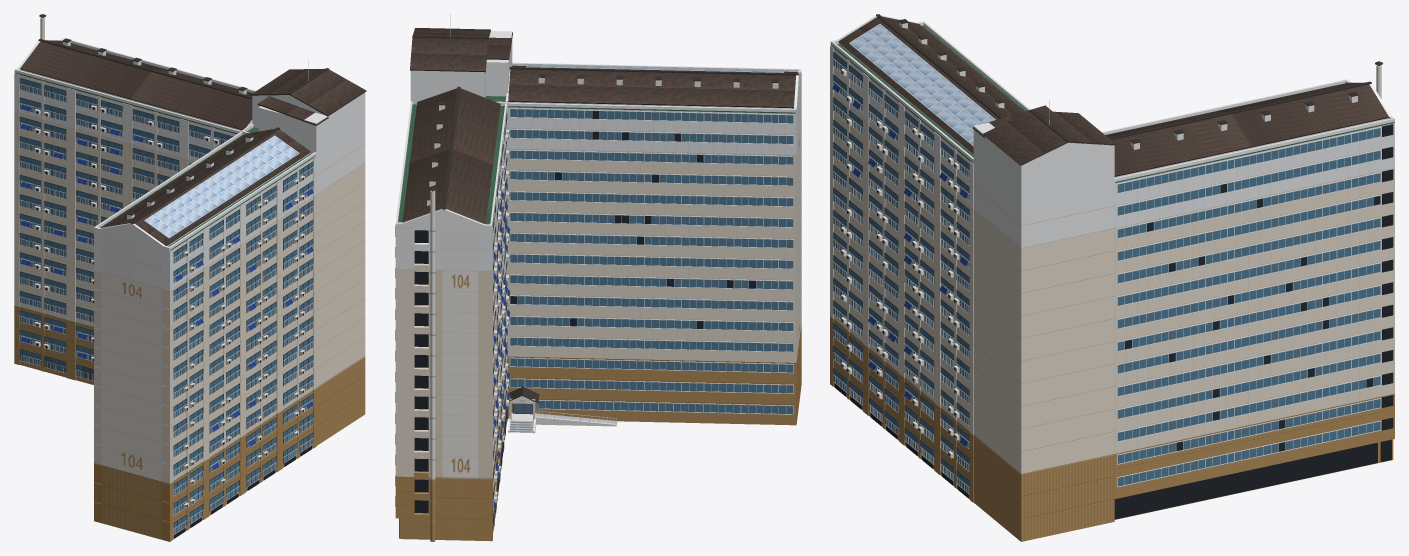
Rendered from place_행당대림104.glb.
3 views of the same model, side by side, from view 1: azimuth 30°, elevation 25°; view 2: azimuth 150°, elevation 25°; view 3: azimuth 270°, elevation 25° (orthographic). The views are drawn at different scales.
Visible parts, largest first — view 1: Merged_Window_Glass, Haengdang_Daelim_104_v2, Wing2_WSW_104_Wall, Pitched_Gable_Roofs, Corner_Core_Block, Merged_Silver_Railings, Merged_Sash_Frames, Wing2_Main_Mid, Wing1_Main_Mid, Wing2_South_Rooftop_Solar_PV_Array, Merged_AC_Units, Wing1_Main_Top (+9 smaller); view 2: Wing2_Main_Mid, Merged_Window_Glass, Pitched_Gable_Roofs, Wing1_NNW_104_Wall, Merged_White_Corr_Frames, Haengdang_Daelim_104_v2, Wing2_Main_Lower, Wing2_Main_Top, Wing1_NNW_East_Mid, Wing1_NNW_Chimney, Inner_Corner_104_Entrance, Wing2_WSW_104_Wall (+10 smaller); view 3: Merged_Window_Glass, Corner_Core_Block, Wing1_Main_Mid, Haengdang_Daelim_104_v2, Pitched_Gable_Roofs, Merged_White_Corr_Frames, Merged_Silver_Railings, Wing2_Main_Mid, Merged_Sash_Frames, Wing1_Main_Lower, Wing1_Main_Top, Wing2_South_Rooftop_Solar_PV_Array (+7 smaller).
Part boxes in pixels (bbox=[...]): Merged_Window_Glass: bbox=[20, 78, 312, 533]; Haengdang_Daelim_104_v2: bbox=[14, 59, 366, 541]; Wing2_WSW_104_Wall: bbox=[94, 231, 169, 541]; Pitched_Gable_Roofs: bbox=[14, 38, 316, 251]; Corner_Core_Block: bbox=[317, 124, 365, 445]; Merged_Silver_Railings: bbox=[19, 83, 313, 535]; Merged_Sash_Frames: bbox=[19, 78, 313, 531]; Wing2_Main_Mid: bbox=[173, 197, 312, 480]; Wing1_Main_Mid: bbox=[26, 115, 194, 326]; Wing2_South_Rooftop_Solar_PV_Array: bbox=[144, 135, 299, 238]; Merged_AC_Units: bbox=[34, 105, 304, 508]; Wing1_Main_Top: bbox=[26, 76, 235, 161]; Wing2_Main_Mid: bbox=[508, 148, 796, 362]; Merged_Window_Glass: bbox=[493, 109, 793, 518]; Pitched_Gable_Roofs: bbox=[395, 62, 801, 229]; Wing1_NNW_104_Wall: bbox=[428, 228, 491, 541]; Merged_White_Corr_Frames: bbox=[509, 108, 793, 414]; Haengdang_Daelim_104_v2: bbox=[395, 14, 801, 540]; Wing2_Main_Lower: bbox=[508, 356, 796, 425]; Wing2_Main_Top: bbox=[508, 75, 801, 154]; Wing1_NNW_East_Mid: bbox=[395, 269, 414, 476]; Wing1_NNW_Chimney: bbox=[429, 187, 436, 541]; Inner_Corner_104_Entrance: bbox=[507, 386, 617, 433]; Wing2_WSW_104_Wall: bbox=[796, 74, 801, 422]; Merged_Window_Glass: bbox=[834, 53, 1380, 493]; Corner_Core_Block: bbox=[973, 164, 1114, 541]; Wing1_Main_Mid: bbox=[1114, 171, 1380, 453]; Haengdang_Daelim_104_v2: bbox=[830, 45, 1393, 519]; Pitched_Gable_Roofs: bbox=[830, 14, 1394, 182]; Merged_White_Corr_Frames: bbox=[1117, 127, 1380, 487]; Merged_Silver_Railings: bbox=[833, 58, 969, 494]; Wing2_Main_Mid: bbox=[834, 93, 969, 430]; Merged_Sash_Frames: bbox=[833, 52, 969, 493]; Wing1_Main_Lower: bbox=[1114, 397, 1380, 498]; Wing1_Main_Top: bbox=[1114, 126, 1380, 228]; Wing2_South_Rooftop_Solar_PV_Array: bbox=[849, 24, 995, 146].
Bounding box in the file's own units: 48.39 × 52.55 × 64.64.
Materials: 36 (16 with a texture image).
